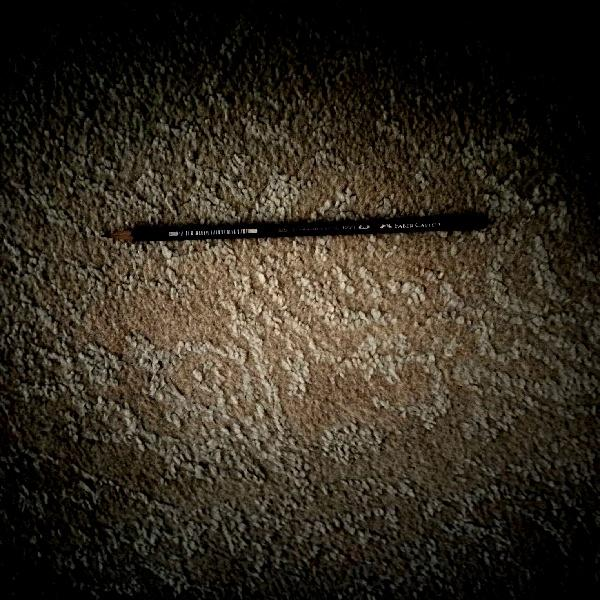pencil: (96, 211, 507, 247)
